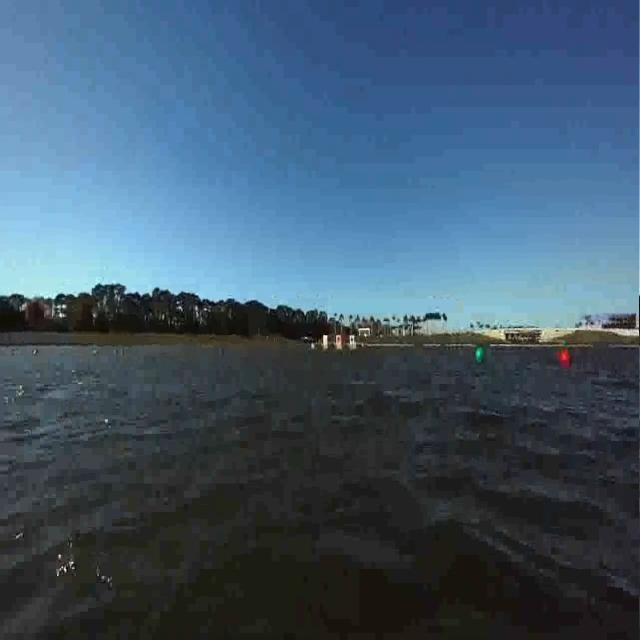green-buoy: (476, 346, 486, 362)
red-buoy: (559, 350, 572, 370)
